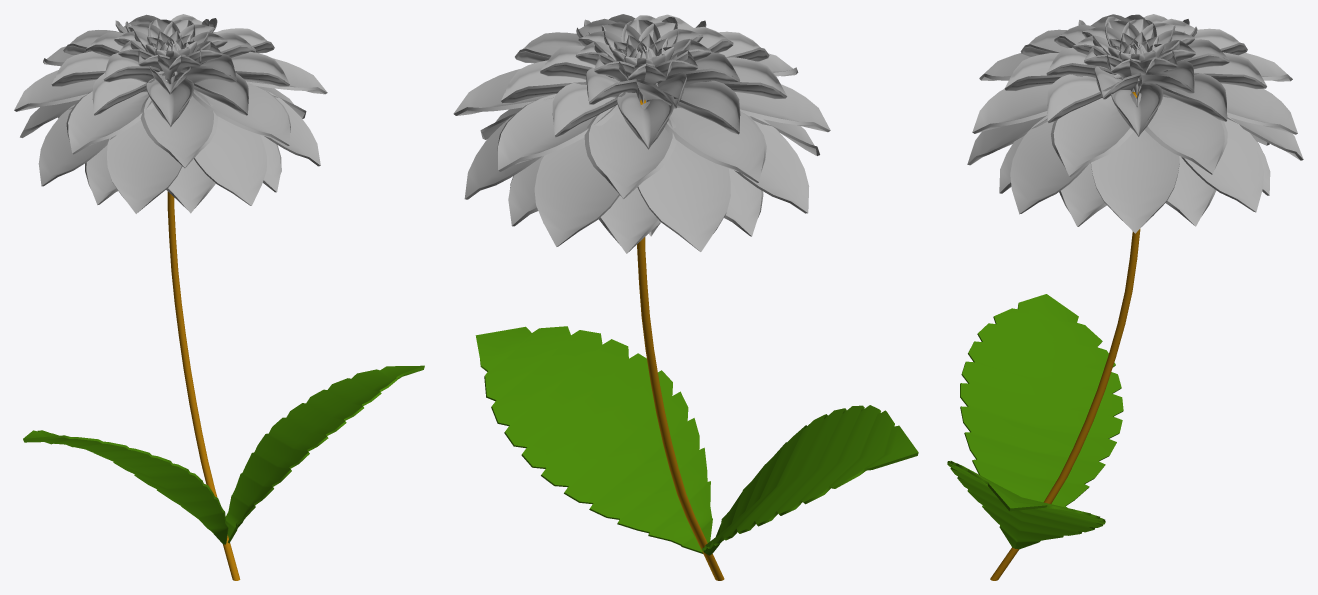
The model's file is Dalia_INTE.fbx.
The picture shows the model from 3 angles, left to right: view 1: azimuth 30°, elevation 25°; view 2: azimuth 150°, elevation 25°; view 3: azimuth 270°, elevation 25°; orthographic projection. The views are drawn at different scales.
Visible parts, largest first — view 1: pCube36, pCube117, pCube42, pCube43, pCube51, pCube50, Caule_Centro1, pCube52, pCube41, pCube49, pCube100, pCube58 (+15 smaller); view 2: pCube36, pCube117, pCube40, pCube39, pCube48, pCube49, pCube47, Caule_Centro1, pCube41, pCube50, pCube58, pCube105 (+18 smaller); view 3: pCube117, pCube37, pCube36, pCube45, pCube46, pCube44, pCube38, Caule_Centro1, pCube52, pCube47, pCube62, pCube103 (+21 smaller).
Boxes of the visible parts, x1,y1,x2,y2 form: pCube36: (225,365,424,543); pCube117: (23,430,228,544); pCube42: (107,120,182,213); pCube43: (194,116,266,205); pCube51: (140,90,217,167); pCube50: (66,91,154,154); Caule_Centro1: (167,191,240,580); pCube52: (192,83,290,145); pCube41: (38,104,116,186); pCube49: (14,70,96,111); pCube100: (166,159,215,213); pCube58: (51,51,109,86); pCube36: (475,326,712,553); pCube117: (702,405,918,555); pCube40: (637,141,730,251); pCube39: (534,137,619,246); pCube48: (584,101,677,198); pCube49: (664,108,766,182); pCube47: (497,94,618,171); Caule_Centro1: (637,99,724,580); pCube41: (734,117,809,213); pCube50: (735,84,830,132); pCube58: (661,80,740,134); pCube105: (598,187,660,253); pCube117: (960,294,1123,507); pCube37: (1090,130,1179,233); pCube36: (947,461,1105,549); pCube45: (1051,91,1136,176); pCube46: (1136,90,1227,174); pCube44: (1010,115,1088,214); pCube38: (1181,116,1263,212); Caule_Centro1: (990,92,1140,580); pCube52: (972,84,1099,133); pCube47: (1221,83,1297,134); pCube62: (1047,74,1118,122); pCube103: (1166,156,1216,226).
Size of the model in its own units: 0.8864 by 1.08 by 0.6513.
